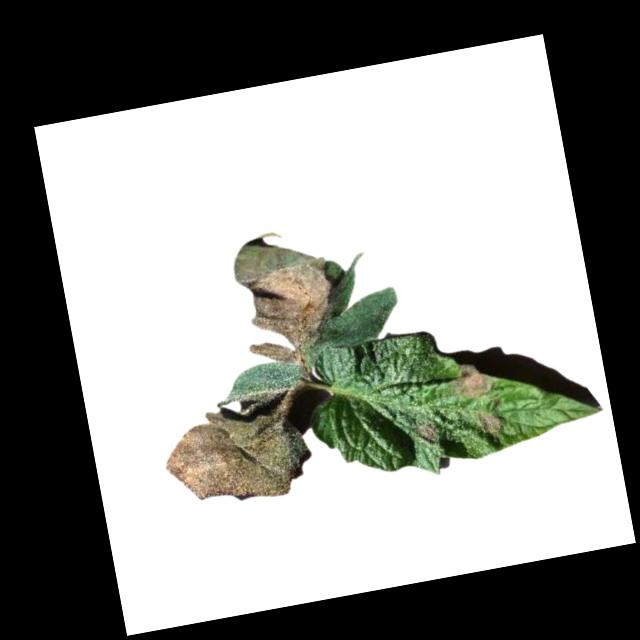Late_blight: (158, 392, 318, 516), (228, 223, 348, 372), (453, 361, 495, 402), (477, 409, 507, 438), (419, 420, 441, 446)
